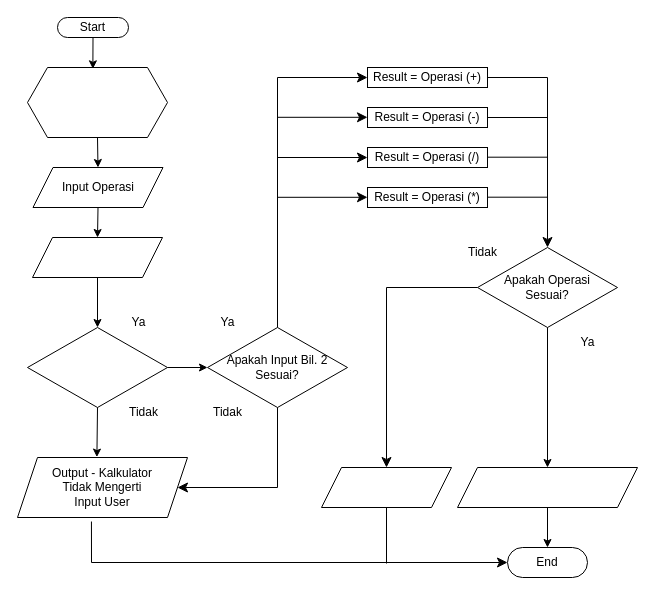
This 655x595 diagram has some shape labels left out. The shapes that lost their labels are listed below. From the top down, each one's box as (x1, y1, x2, y2) in pixels, then its label:
(26, 66, 168, 138): float number1 float number2 float result string logic
(32, 236, 162, 278): Input bilangan 1 Input bilangan 2
(26, 326, 168, 408): Apakah Input Bil. 1 Sesuai?
(320, 466, 452, 508): Input Operasi Salah
(456, 466, 638, 508): Output Hasil Operasi
